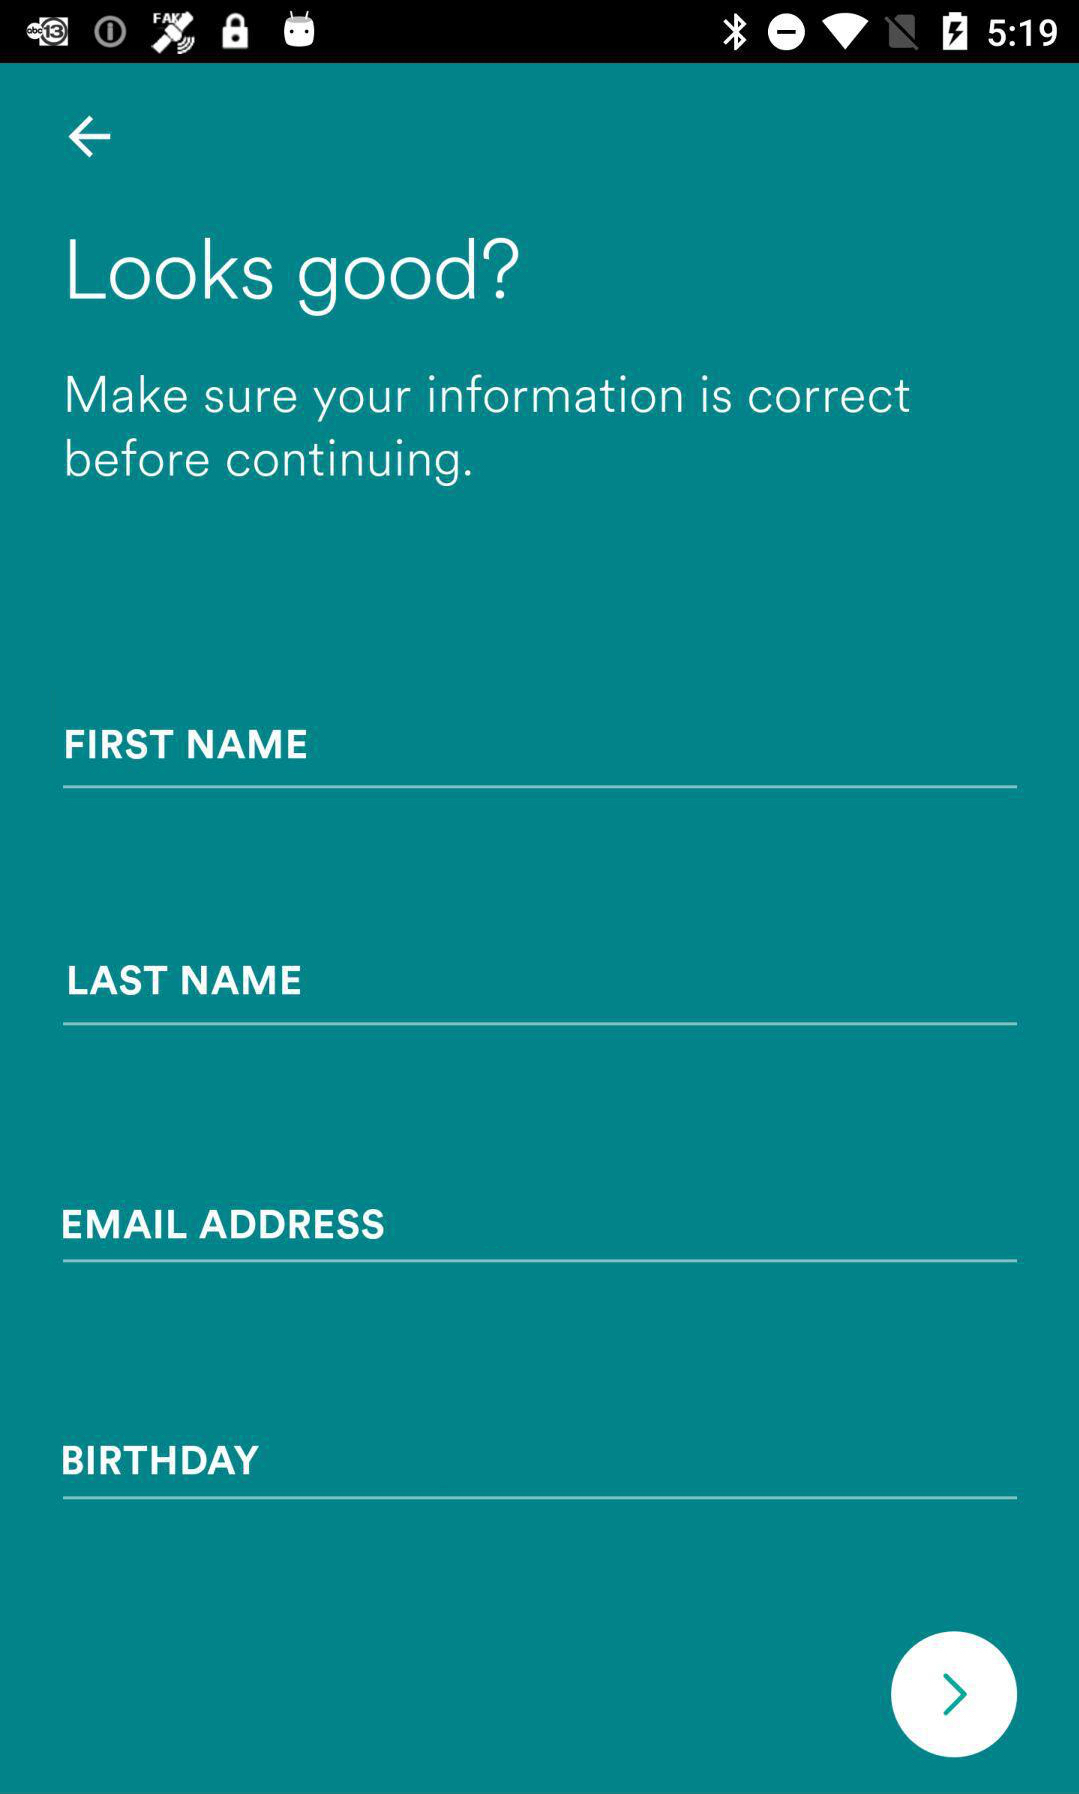EditText: (62, 965, 1017, 1026), (63, 729, 1017, 789), (63, 1445, 1017, 1501), (63, 1208, 1017, 1263)
Icon: (891, 1630, 1017, 1758), (68, 117, 111, 160)
Text: (67, 375, 910, 488), (70, 237, 520, 317), (63, 1208, 384, 1240), (65, 729, 308, 761), (68, 965, 302, 997), (63, 1445, 260, 1476)
UpperTaskBar: (1, 1, 1079, 64)
